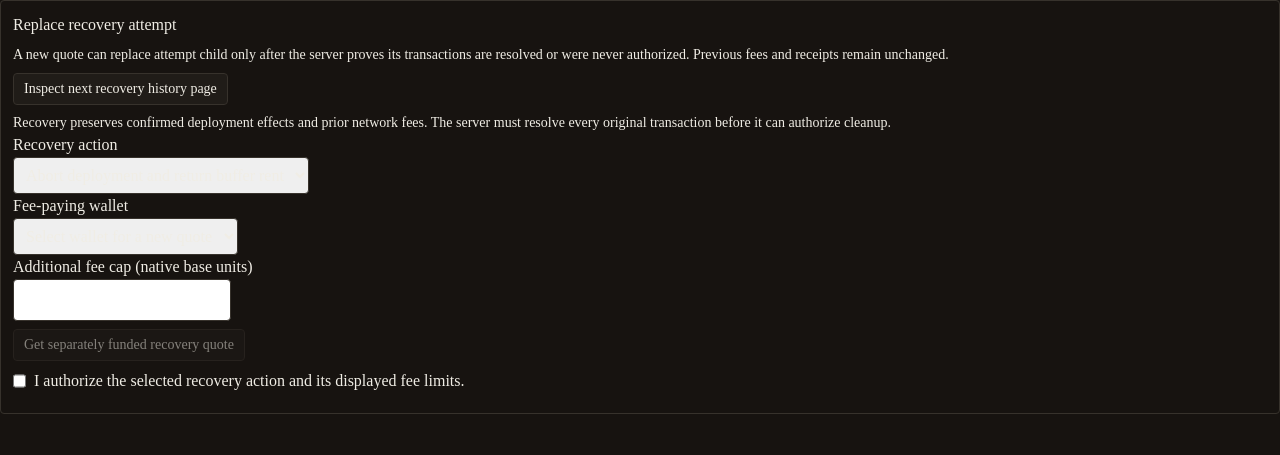
Test: inspects recovery history in explicit pages without authorizing a replacement
Click the button "Inspect next recovery history page".
click(120, 89)  # box left=13, top=73, right=228, bottom=105
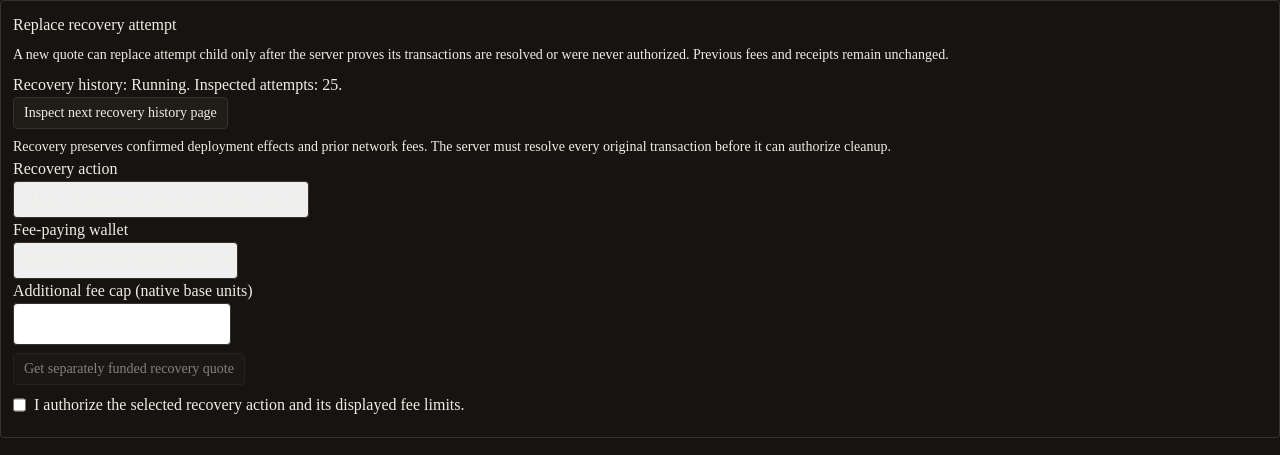
Now the message shows "25", box left=322, top=76, right=338, bottom=93
Click the button "Inspect next recovery history page".
click(120, 113)  # box left=13, top=97, right=228, bottom=129
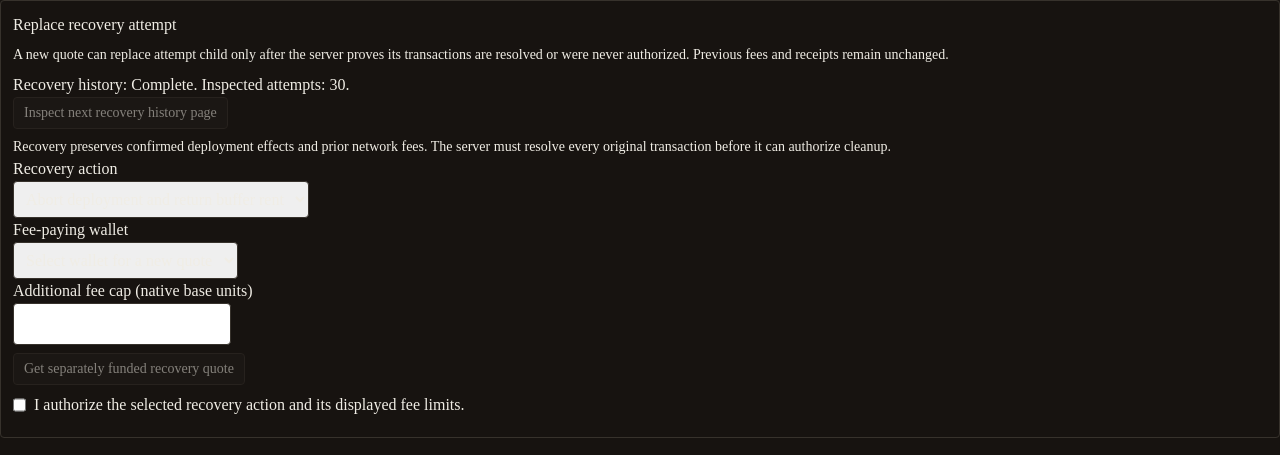
Now the message shows "Complete", box left=131, top=76, right=193, bottom=93
Now the button "Inspect next recovery history page" is disabled, box left=13, top=97, right=228, bottom=129
